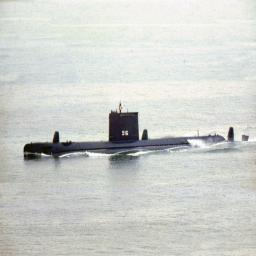submarine: (24, 112, 250, 156)
